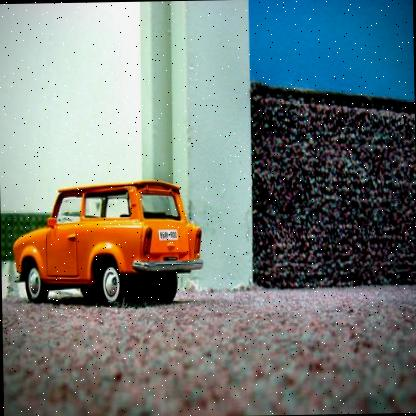car: (4, 174, 208, 311)
